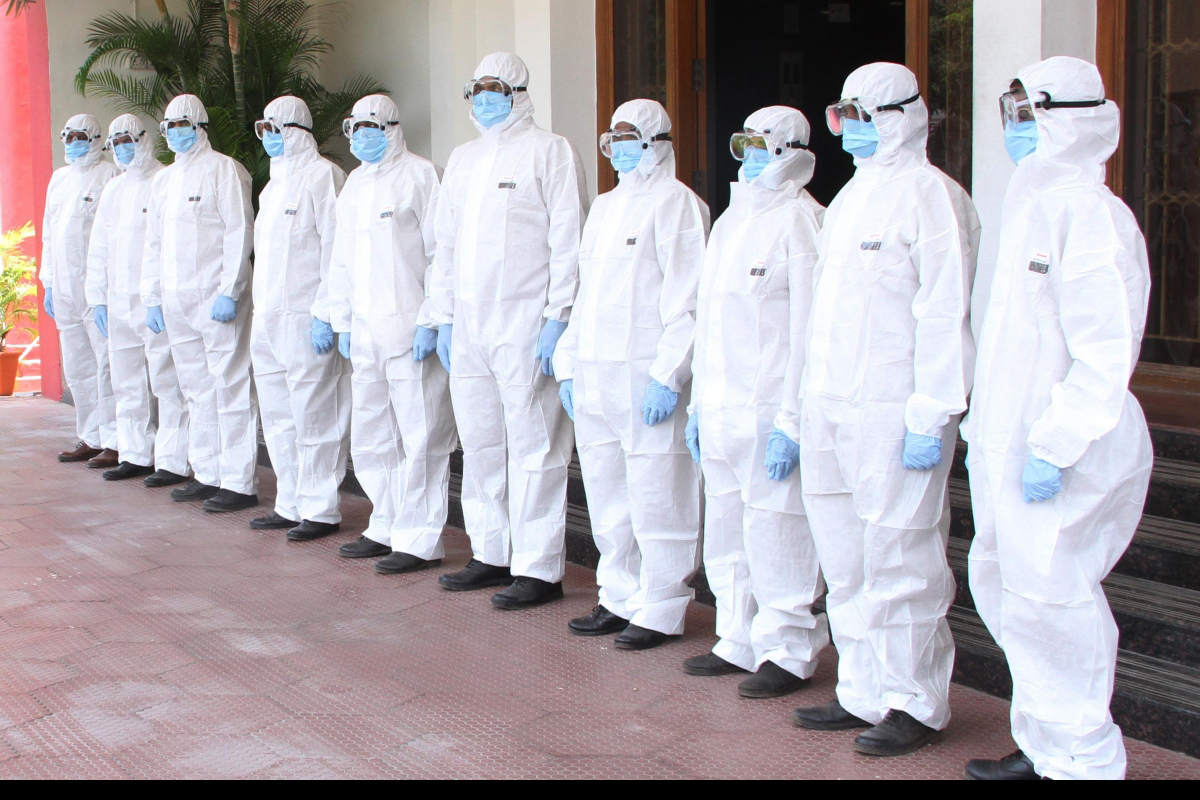Coverall: (972, 59, 1156, 774), (804, 56, 972, 716), (559, 94, 704, 598), (442, 51, 576, 569), (707, 105, 827, 665), (330, 85, 440, 539), (151, 95, 257, 477), (255, 96, 334, 517), (33, 107, 106, 447), (92, 109, 162, 458)
Gloves: (1010, 458, 1070, 512), (764, 428, 801, 492), (641, 375, 680, 430), (901, 428, 941, 480), (536, 320, 566, 378), (679, 407, 707, 464), (555, 376, 583, 420), (306, 316, 337, 355), (86, 295, 114, 338), (435, 321, 459, 371), (411, 319, 436, 366), (209, 294, 240, 328), (142, 301, 164, 335), (40, 286, 61, 319)
Goggles: (727, 125, 780, 168), (820, 98, 879, 136), (996, 87, 1048, 128), (602, 125, 646, 154), (250, 112, 290, 142), (341, 112, 386, 136), (470, 76, 513, 99)
with_mask: (1000, 112, 1050, 169), (837, 100, 881, 155), (603, 132, 653, 180), (467, 85, 515, 129), (733, 146, 779, 181), (350, 132, 390, 169), (162, 123, 204, 156), (109, 137, 141, 169), (260, 134, 293, 162)
